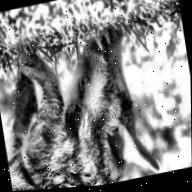boar: (0, 10, 164, 192)
